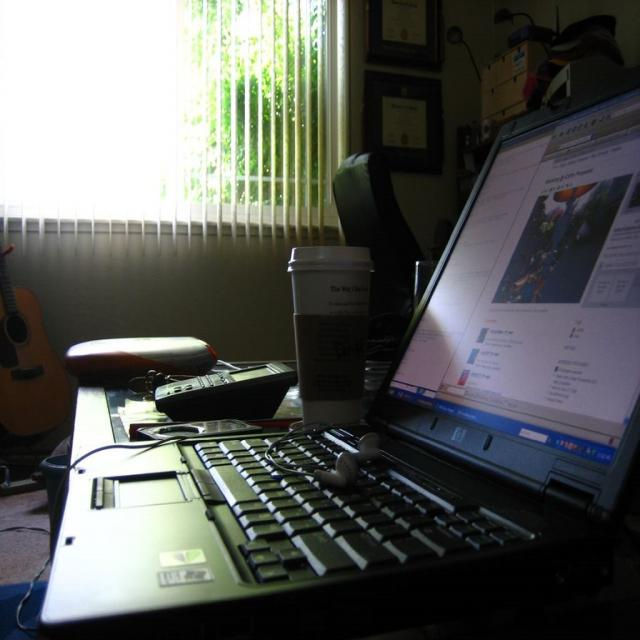desk: (67, 361, 639, 639)
laptop: (30, 143, 640, 629)
